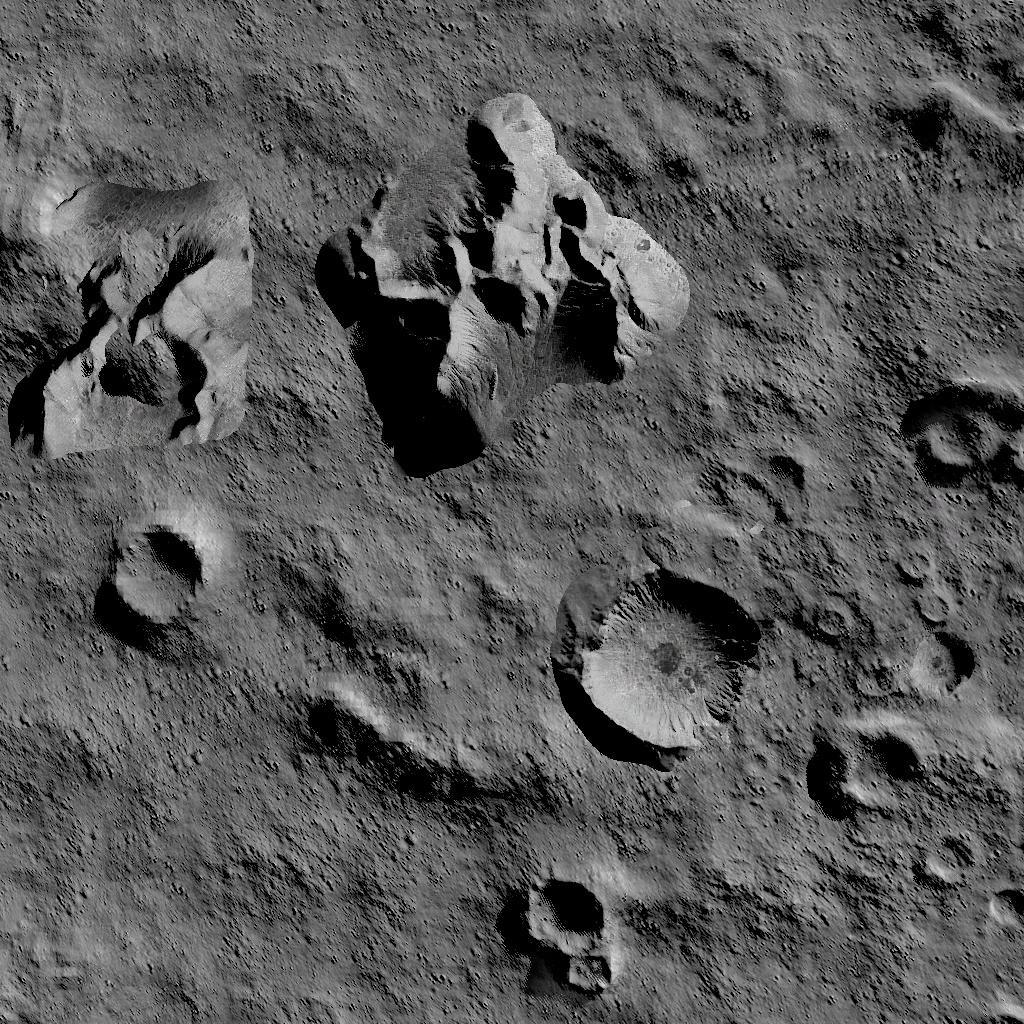Boulders: (316, 95, 688, 475), (0, 150, 253, 463), (311, 682, 548, 818), (871, 0, 1024, 200)
Crater: (566, 562, 766, 760), (521, 868, 628, 1000), (904, 378, 1020, 492), (106, 522, 218, 630), (816, 712, 925, 820), (911, 830, 973, 890)
Plan surface: (0, 642, 298, 1024), (0, 0, 303, 135), (316, 832, 508, 1024)
